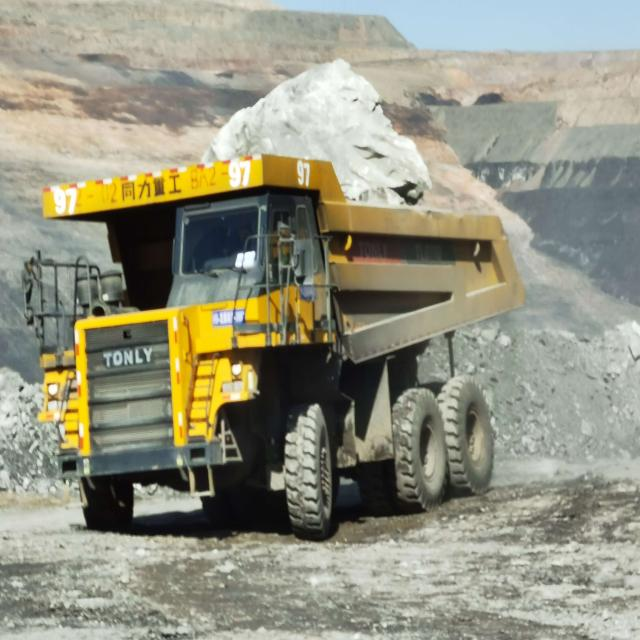dump_truck: (25, 137, 534, 555)
